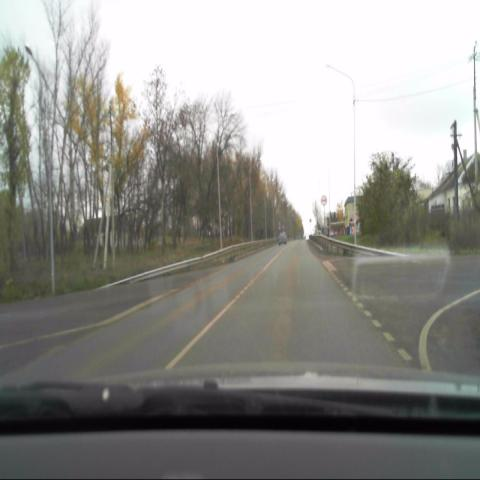3_20: (320, 194, 328, 206)
